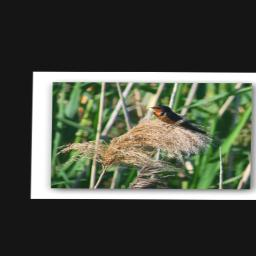Swallow: (146, 104, 215, 138)
